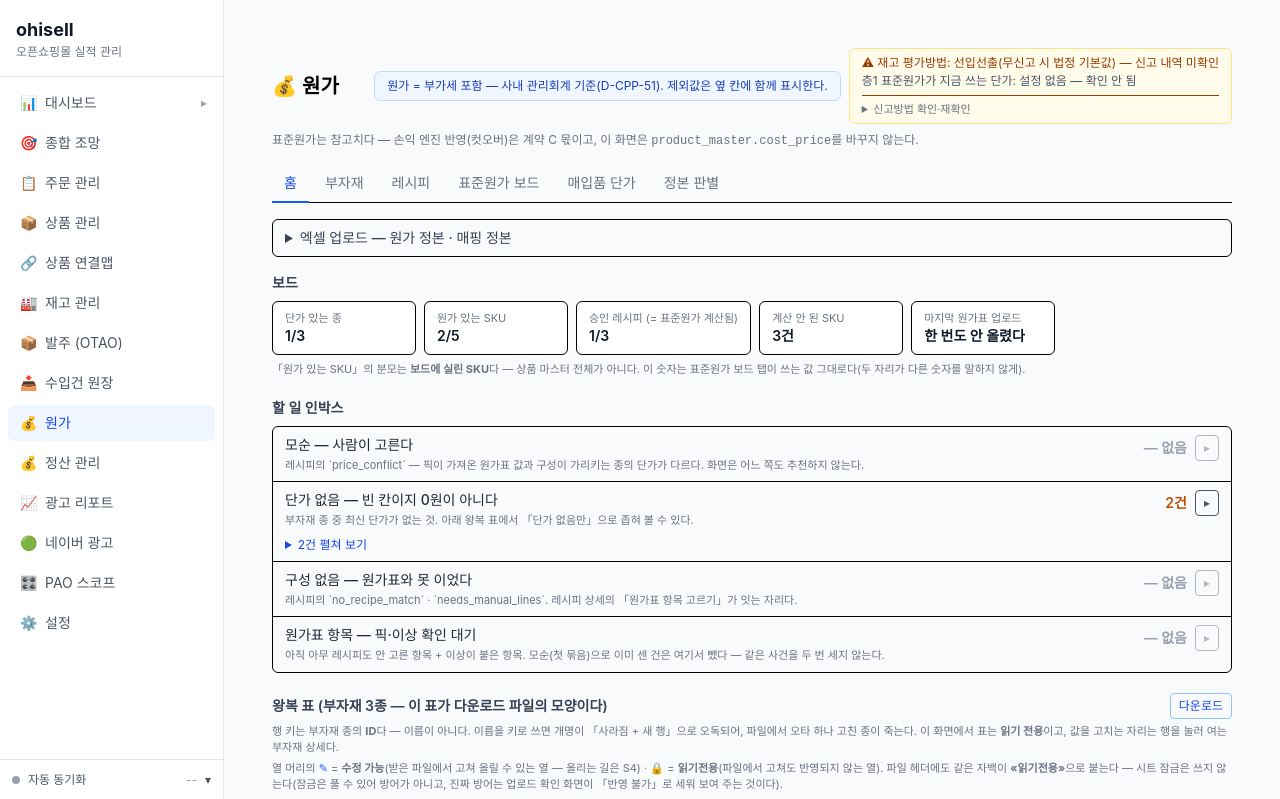
Scenario: ★정본 판별이 사람에게 닿는 경로 (계약 D-CPP-64 §4 S2) › ★분할 버튼을 누르면 실제로 실행 API가 불리고 결과가 화면에 선다
Expected: the heading "💰 원가" is shown, [272, 72, 339, 100]
Step 1. Click the button "정본 판별" → [691, 184], box [652, 165, 731, 203]
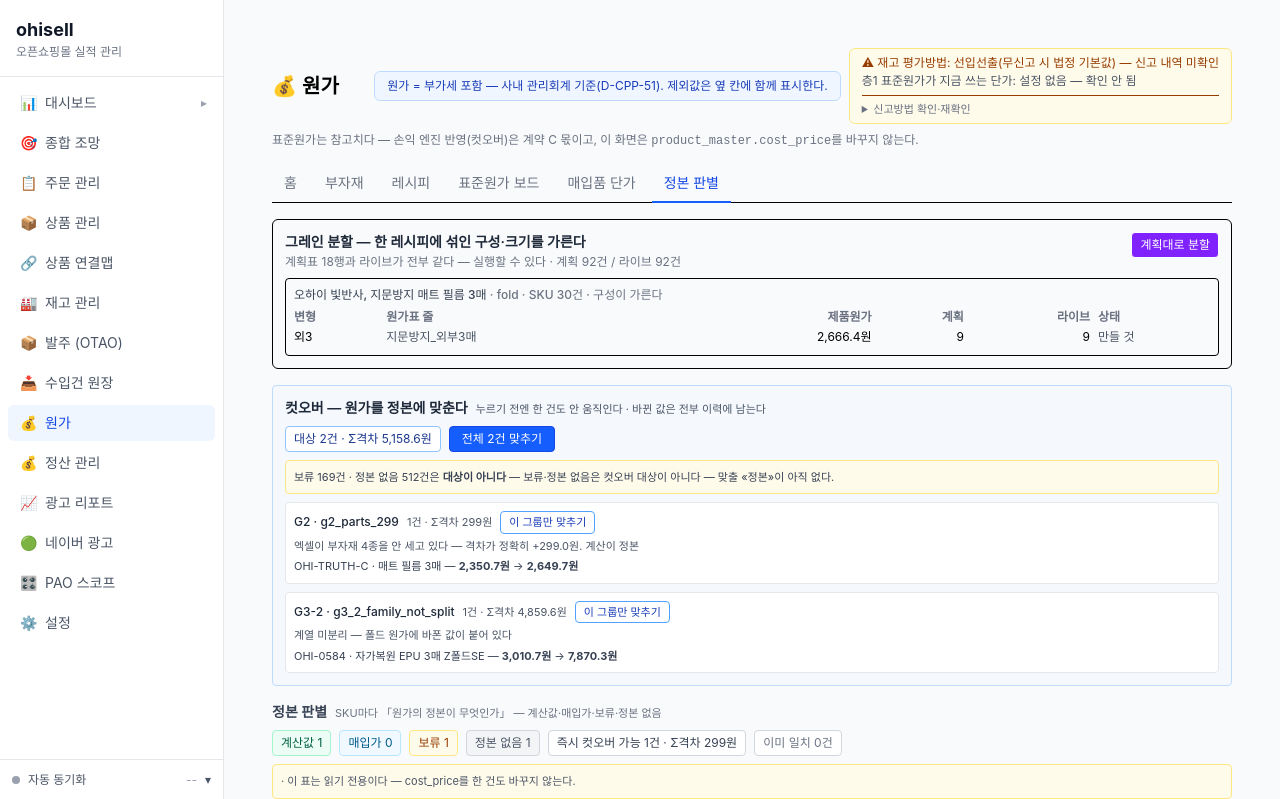
Now the element with test id "cost-grain-split-panel" is shown, box [272, 219, 1232, 369]
Step 2. Click the button with test id "cost-grain-split-run" → [1175, 245], box [1131, 232, 1219, 258]
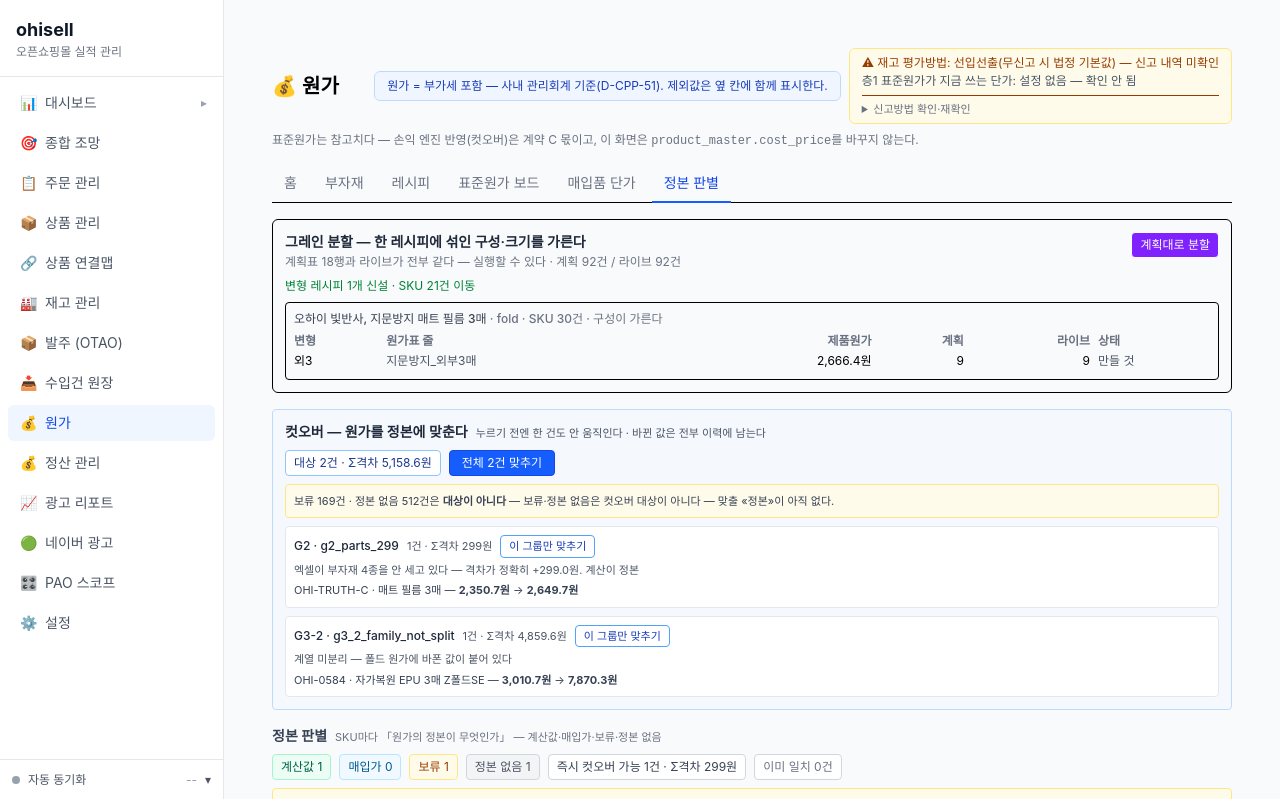
Now the text with test id "cost-grain-split-result" shows "1개", box [285, 278, 475, 293]
Now the text with test id "cost-grain-split-result" shows "21건", box [285, 278, 475, 293]
